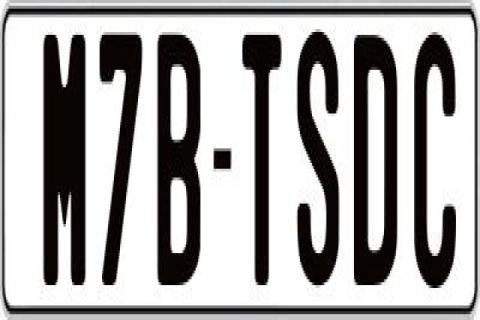0: (98, 32, 146, 291)
B: (154, 26, 196, 282)
C: (411, 32, 455, 296)
D: (352, 26, 394, 288)
M: (40, 35, 88, 297)
S: (294, 32, 340, 285)
T: (242, 26, 284, 291)
